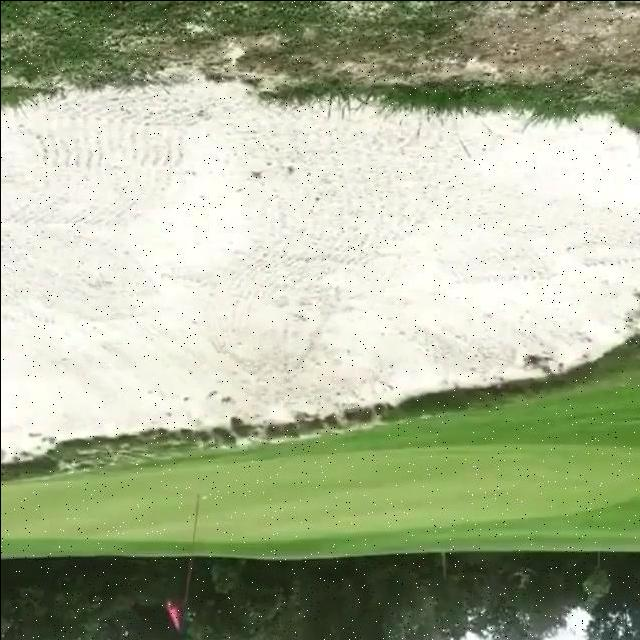golf ball: (202, 494, 207, 500)
